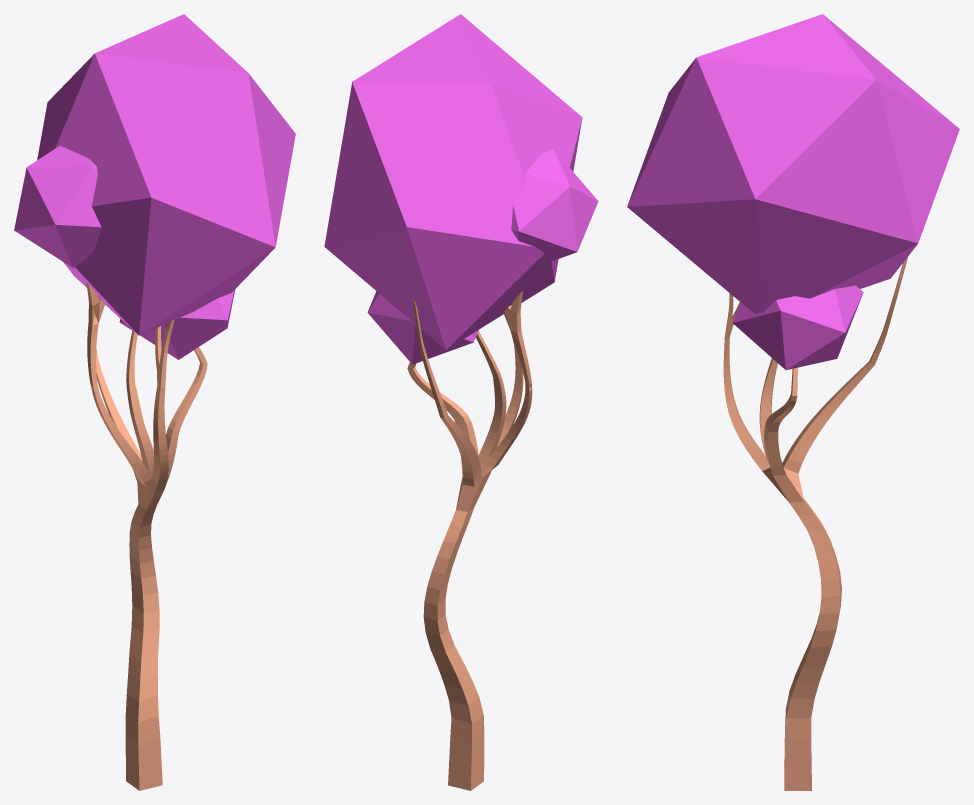
File: Tree 3.fbx
The picture shows the model from 3 angles, left to right: view 1: azimuth 30°, elevation 25°; view 2: azimuth 150°, elevation 25°; view 3: azimuth 270°, elevation 25°; orthographic projection. The views are drawn at different scales.
Visible parts, largest first — view 1: Street Tree 3; view 2: Street Tree 3; view 3: Street Tree 3.
Part boxes in pixels (box(x1,y1,x2,y2)): Street Tree 3: box(14, 14, 295, 790); Street Tree 3: box(324, 14, 598, 790); Street Tree 3: box(627, 14, 959, 790).
Size of the model in its own units: 218 by 606 by 242.
Materials: 1 (1 with a texture image).
